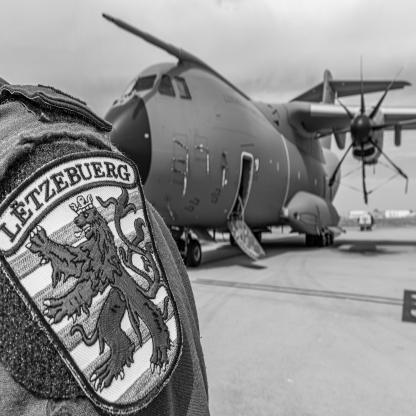A400M: (102, 13, 416, 269)
